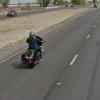Motorcycle: (16, 42, 58, 70)
